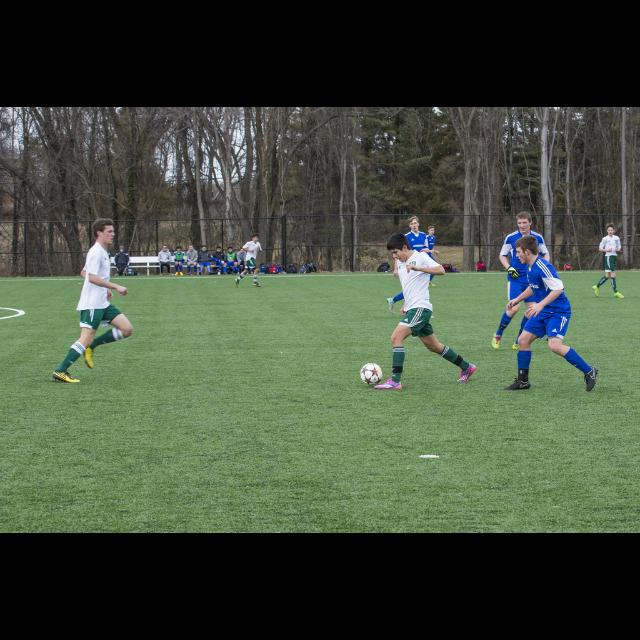Football: (360, 362, 380, 386)
